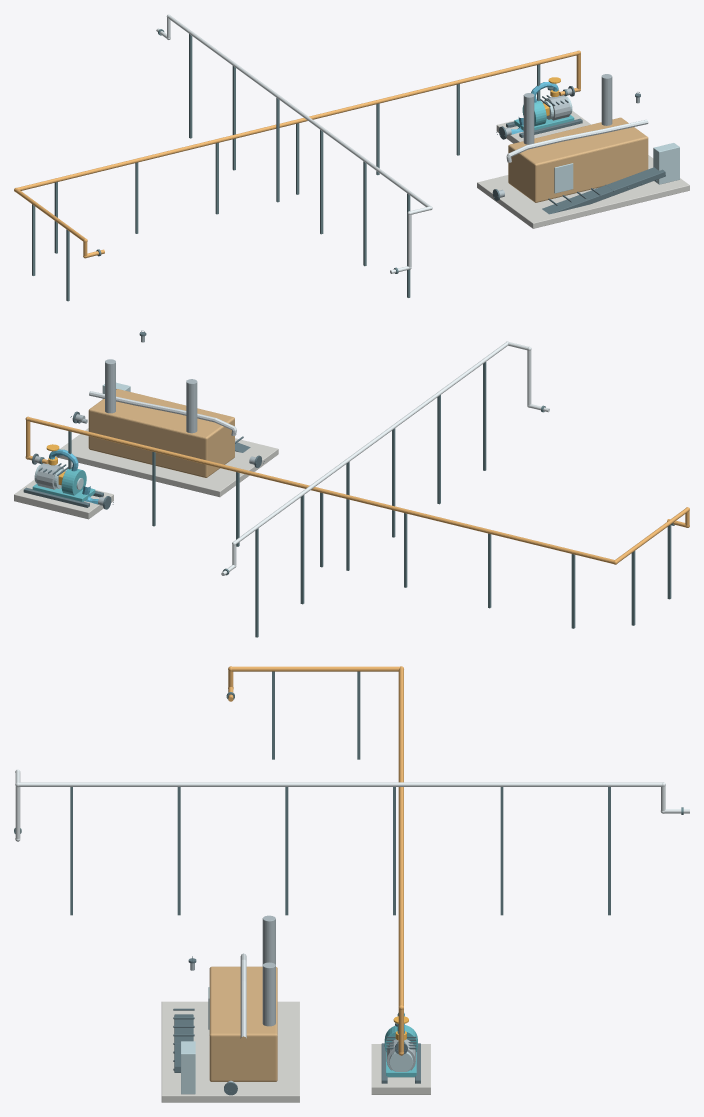
3 views of the same model, one above another, from view 1: azimuth 30°, elevation 25°; view 2: azimuth 150°, elevation 25°; view 3: azimuth 270°, elevation 25° (orthographic). The views are drawn at different scales.
Visible parts, largest first — view 1: render-batch-6, render-batch-3, render-batch-7, render-batch-10, render-batch-0, render-batch-9, render-batch-4, render-batch-5, render-batch-8, render-batch-2; view 2: render-batch-6, render-batch-3, render-batch-7, render-batch-10, render-batch-9, render-batch-4, render-batch-0, render-batch-2, render-batch-8; view 3: render-batch-7, render-batch-6, render-batch-9, render-batch-10, render-batch-3, render-batch-4, render-batch-0, render-batch-5.
Part boxes in pixels (x1=…): render-batch-6: x1=508, y1=117, x2=648, y2=202; render-batch-3: x1=32, y1=29, x2=567, y2=301; render-batch-7: x1=477, y1=111, x2=689, y2=228; render-batch-10: x1=14, y1=50, x2=580, y2=258; render-batch-0: x1=490, y1=86, x2=665, y2=214; render-batch-9: x1=156, y1=14, x2=432, y2=273; render-batch-4: x1=498, y1=74, x2=639, y2=197; render-batch-5: x1=542, y1=96, x2=679, y2=193; render-batch-8: x1=506, y1=119, x2=648, y2=162; render-batch-2: x1=514, y1=99, x2=574, y2=130; render-batch-6: x1=88, y1=389, x2=234, y2=477; render-batch-3: x1=39, y1=362, x2=674, y2=637; render-batch-7: x1=14, y1=428, x2=278, y2=519; render-batch-10: x1=25, y1=416, x2=689, y2=564; render-batch-9: x1=221, y1=341, x2=549, y2=575; render-batch-4: x1=34, y1=336, x2=255, y2=505; render-batch-0: x1=23, y1=330, x2=264, y2=509; render-batch-2: x1=32, y1=467, x2=95, y2=501; render-batch-8: x1=89, y1=391, x2=236, y2=435; render-batch-7: x1=161, y1=1001, x2=430, y2=1102; render-batch-6: x1=209, y1=966, x2=277, y2=1081; render-batch-9: x1=15, y1=769, x2=689, y2=841; render-batch-10: x1=228, y1=666, x2=403, y2=1055; render-batch-3: x1=14, y1=671, x2=683, y2=1042; render-batch-4: x1=190, y1=915, x2=415, y2=1082; render-batch-0: x1=173, y1=956, x2=420, y2=1095; render-batch-5: x1=181, y1=987, x2=413, y2=1094.
Bounding box in the file's own units: 39.6 × 6.85 × 31.73.
